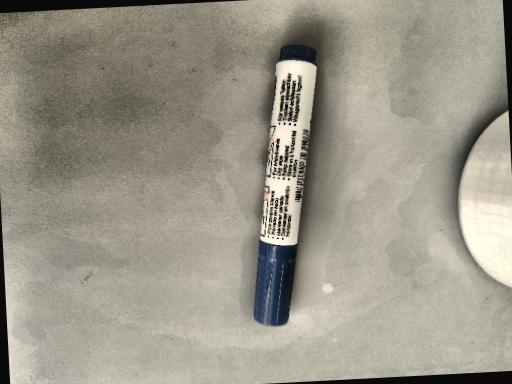marcador azul: (253, 45, 316, 326)
